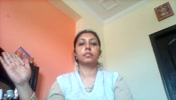hand: (52, 69, 102, 100)
